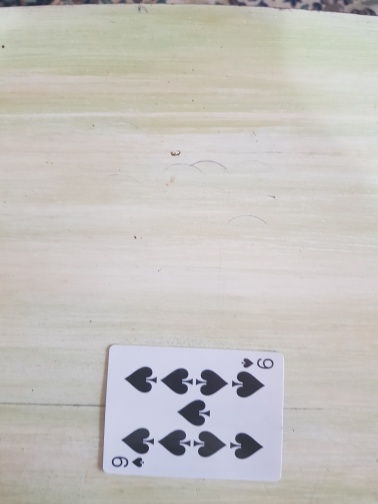nine: (102, 344, 286, 482)
